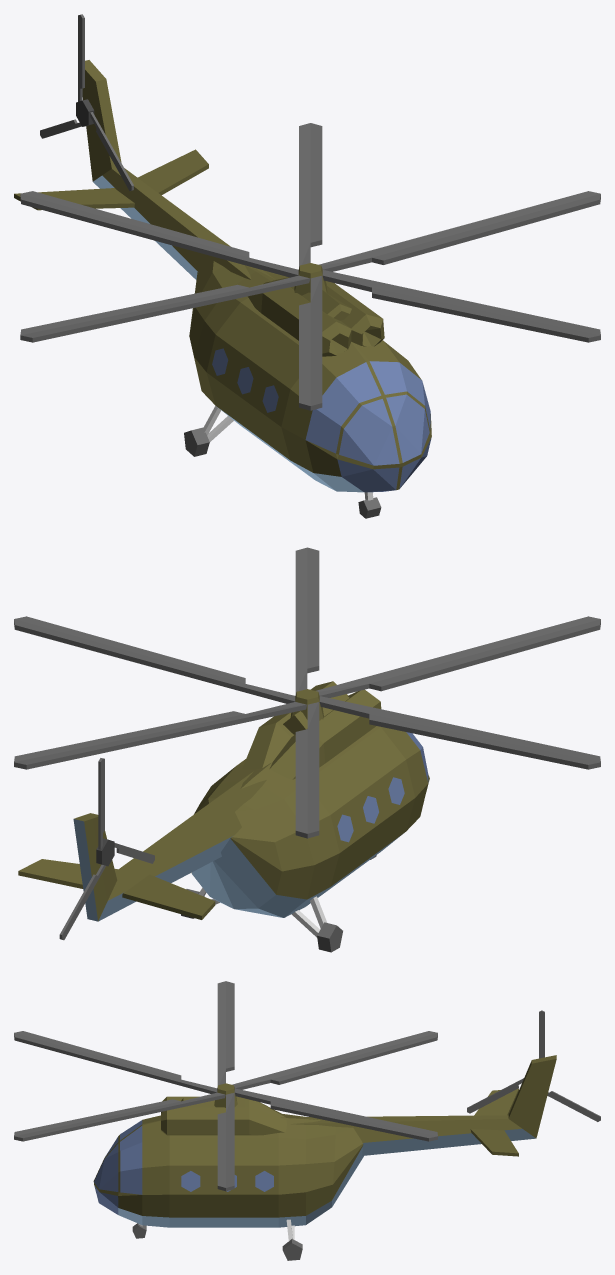
File: transport_air_004.glb
3 renders of one model, top to bottom at view 1: azimuth 30°, elevation 25°; view 2: azimuth 150°, elevation 25°; view 3: azimuth 270°, elevation 25°, orthographic. The views are drawn at different scales.
Parts seen in each view (by area): view 1: transport_air_004; view 2: transport_air_004; view 3: transport_air_004.
Part boxes in pixels (x1,y1,x2,y2): transport_air_004: [14, 14, 600, 518]; transport_air_004: [14, 547, 600, 952]; transport_air_004: [14, 981, 600, 1260].
Size of the model in its own units: 12.8 by 6.37 by 15.34.
Materials: 1 (1 with a texture image).
